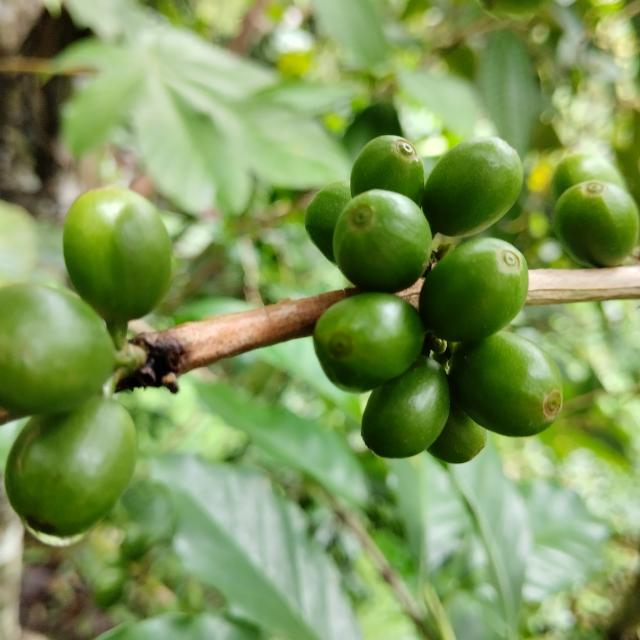green: (4, 395, 137, 539), (0, 283, 115, 416), (62, 187, 171, 322), (449, 331, 564, 437), (420, 238, 529, 342), (314, 292, 425, 393), (333, 189, 432, 292), (423, 136, 524, 236), (361, 355, 451, 459), (555, 180, 640, 267), (350, 135, 424, 205), (428, 397, 487, 464), (305, 180, 351, 264), (553, 152, 627, 200)
